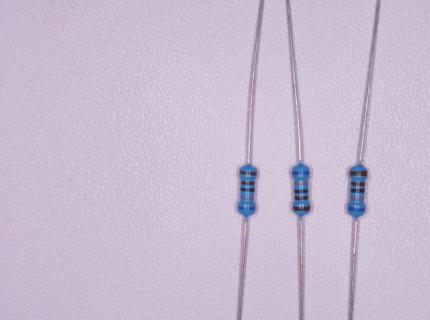Black band: (240, 187, 255, 192), (350, 188, 365, 193), (294, 189, 308, 193)
Blue band: (347, 206, 366, 211), (238, 206, 255, 211), (292, 171, 310, 175)
Brown band: (349, 170, 367, 176), (239, 171, 257, 176), (293, 206, 310, 211), (350, 181, 365, 186), (294, 196, 308, 200), (241, 181, 255, 185)
Grey band: (350, 196, 364, 201), (294, 181, 309, 185), (240, 196, 254, 200)
